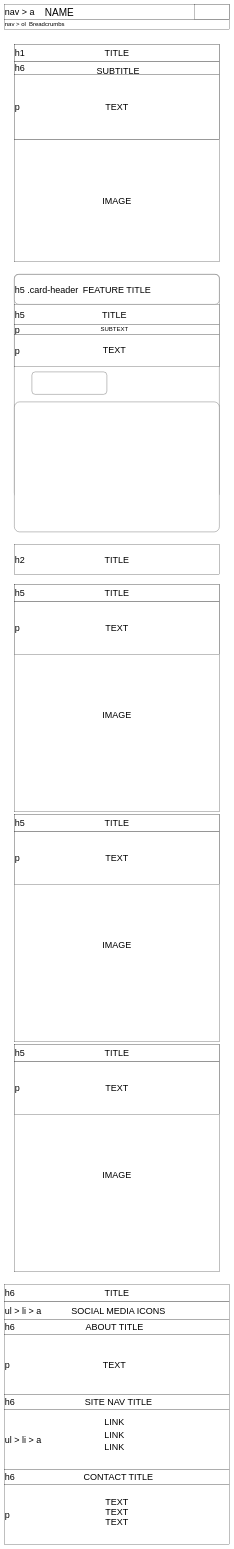
Some shapes in this 234 by 1549 pixel diagram are drawn without their labels. The shapes that lost their labels are listed below. From the top down, each one's centre as x and y in pixels, then its label:
pixel 211 11: button .navbar-toggler
pixel 69 383: a .btn-primary
pixel 116 467: IMG
